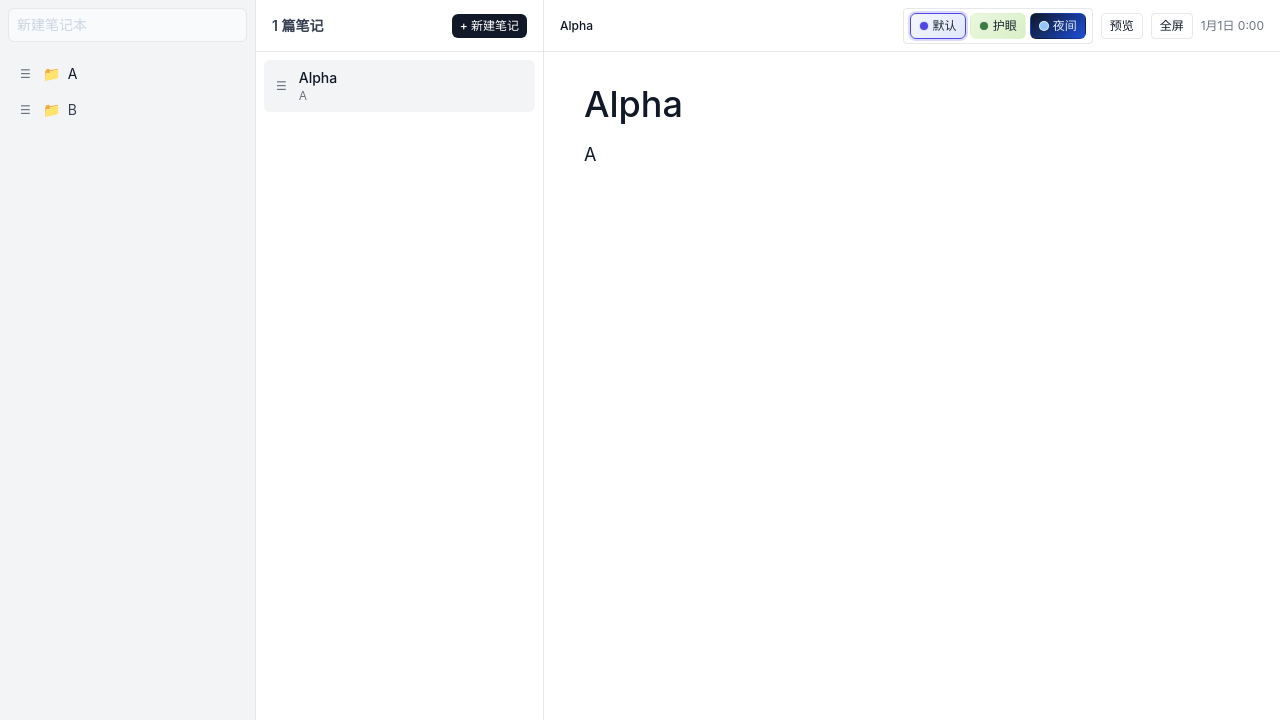
Test: App notebook flow › switches notebooks without leaving the editor empty
Click the text "B": (72,110) [68,101,77,118]
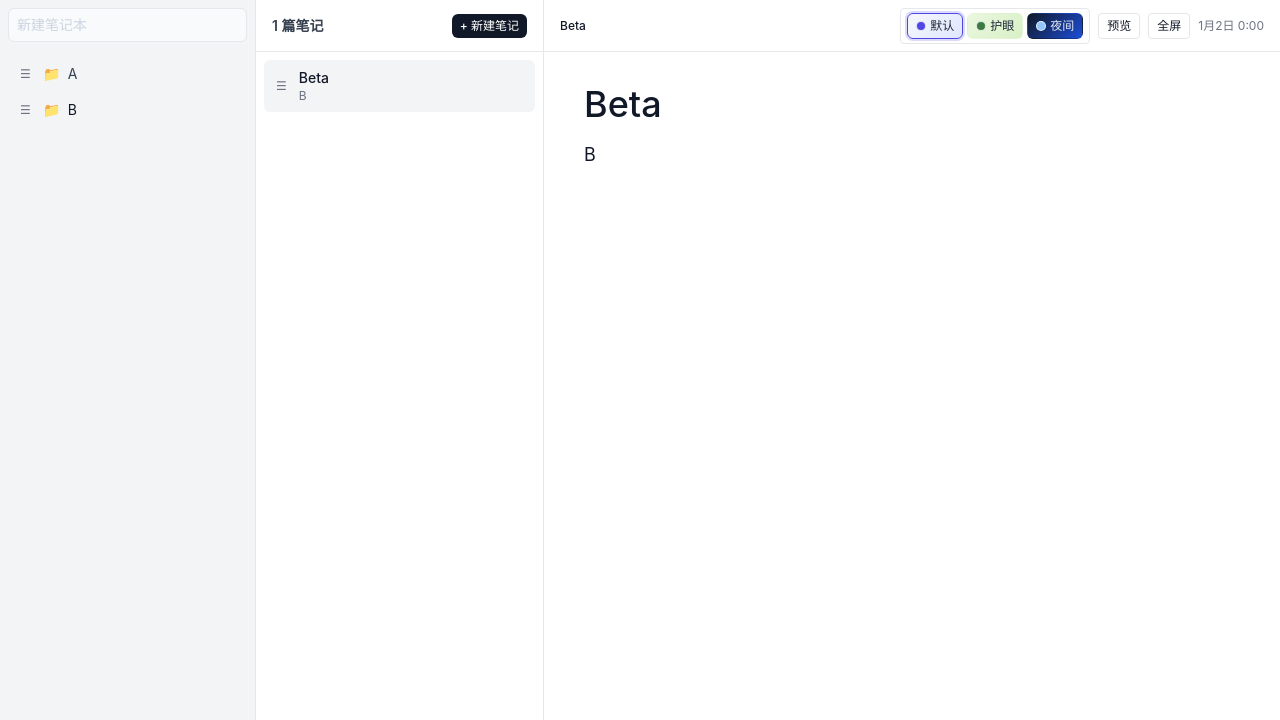
Check: the field showing "Beta" is shown, box [584,84,1240,124]
Check: the text showing "Alpha" is gone
